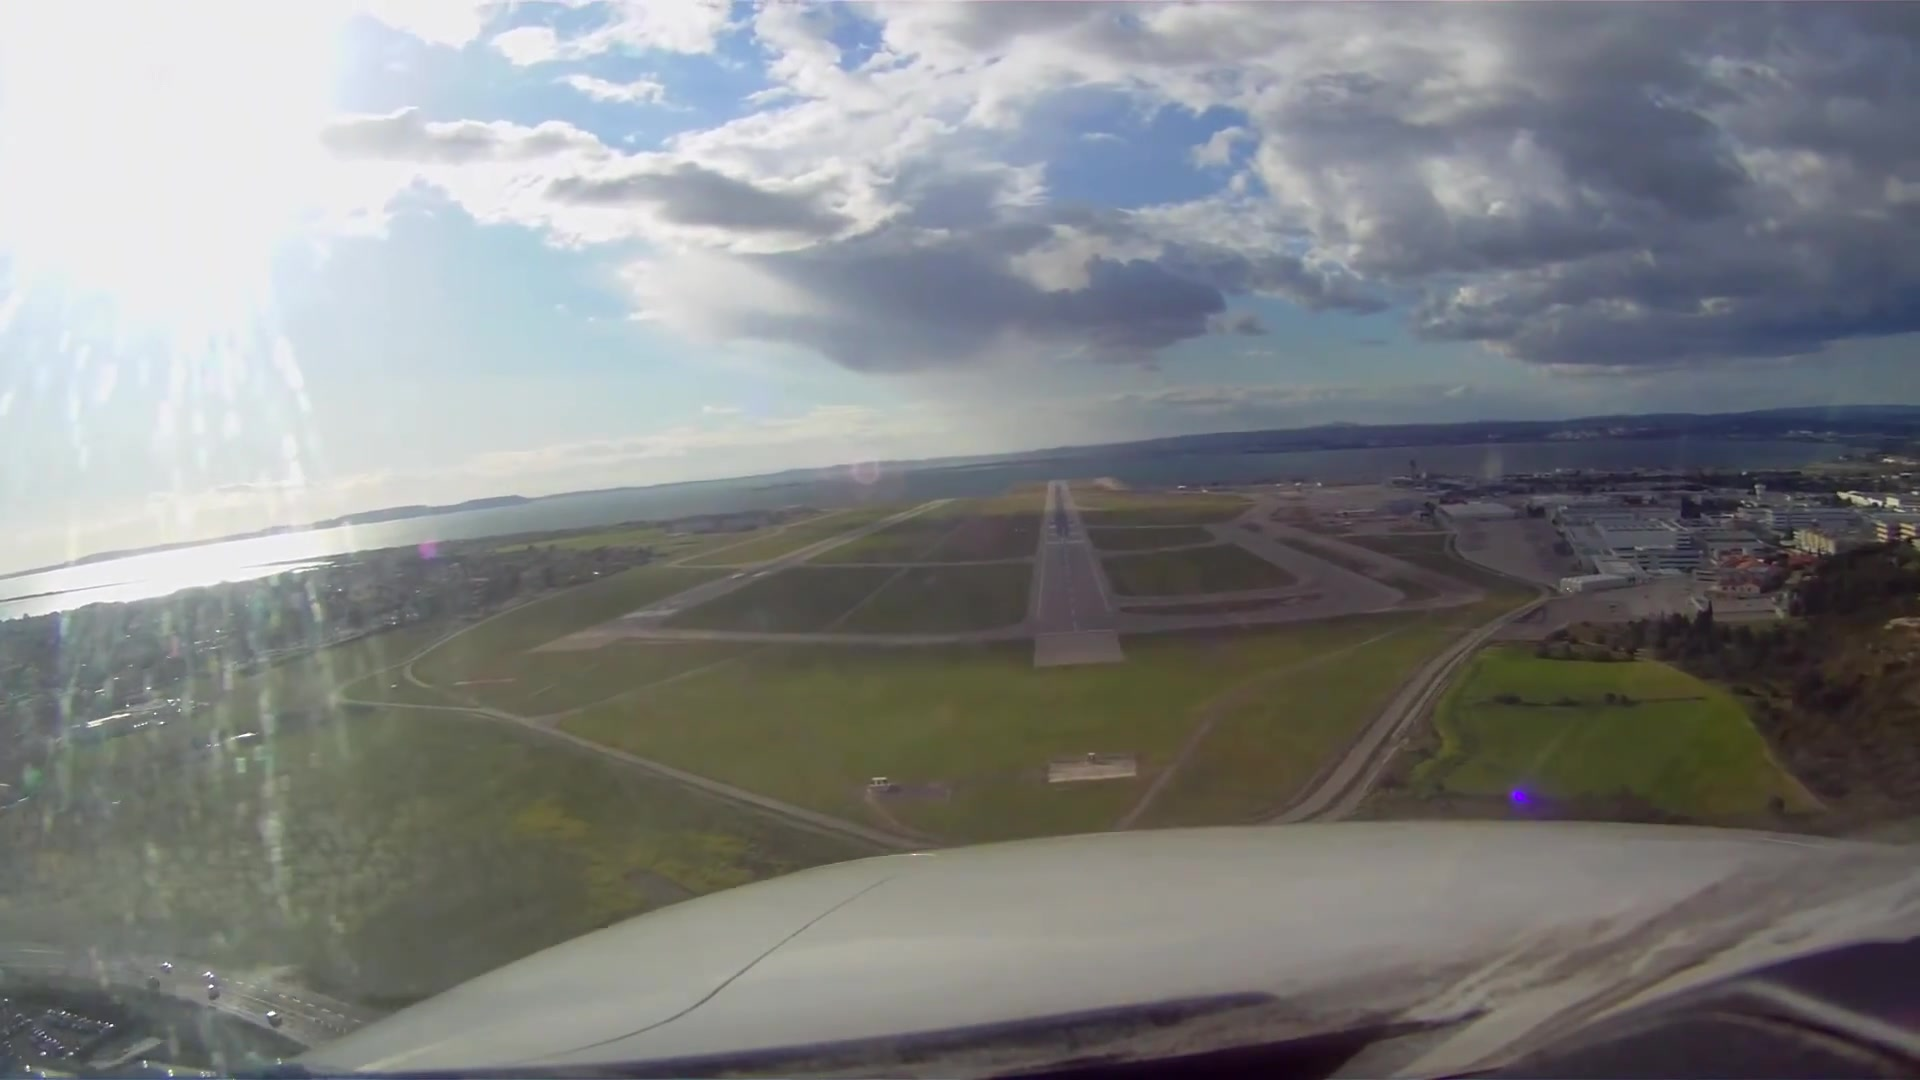runway: (1018, 477, 1116, 642)
